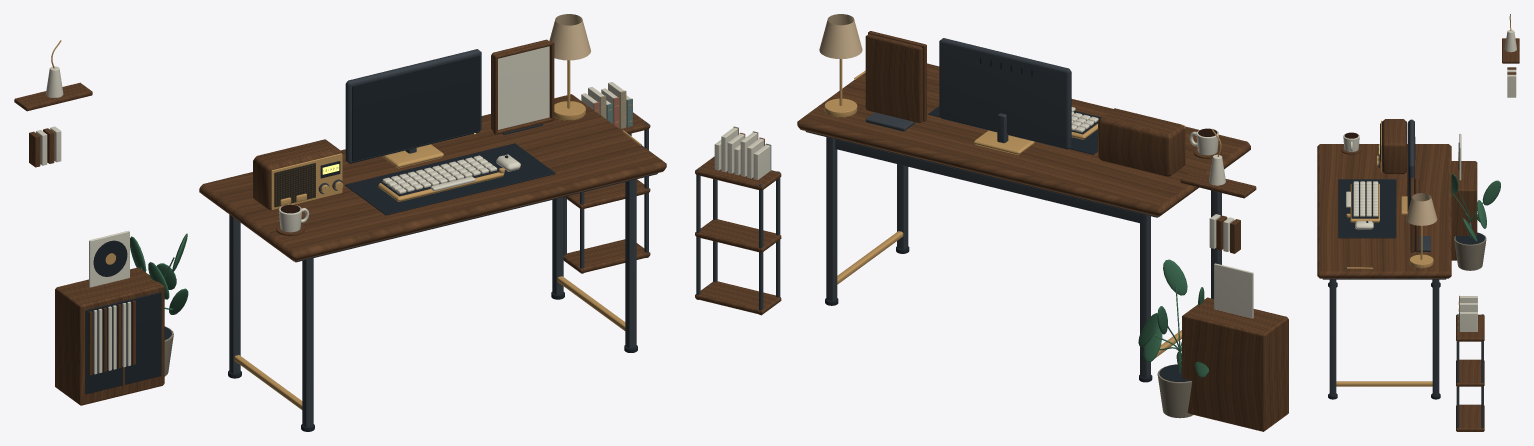
Rendered from desk-studio-mobile.glb.
3 views of the same model, side by side, from view 1: azimuth 30°, elevation 25°; view 2: azimuth 150°, elevation 25°; view 3: azimuth 270°, elevation 25° (orthographic). The views are drawn at different scales.
Visible parts, largest first — view 1: Desk__finish, Scenery__finish, Computer__finish, PhotoDisplay__finish, Radio__finish, KeyboardKey__finish, Lamp__finish, Accessories__finish; view 2: Scenery__finish, Desk__finish, Computer__finish, PhotoDisplay__finish, Radio__finish, Lamp__finish, Accessories__finish, KeyboardKey__finish; view 3: Desk__finish, Scenery__finish, Radio__finish, KeyboardKey__finish, Lamp__finish, Computer__finish, PhotoDisplay__finish, Accessories__finish.
Part boxes in pixels (x1=…): Desk__finish: x1=199, y1=94, x2=666, y2=431; Scenery__finish: x1=14, y1=40, x2=650, y2=405; Computer__finish: x1=345, y1=49, x2=481, y2=168; PhotoDisplay__finish: x1=491, y1=39, x2=554, y2=134; Radio__finish: x1=253, y1=139, x2=343, y2=210; KeyboardKey__finish: x1=378, y1=154, x2=520, y2=201; Lamp__finish: x1=549, y1=14, x2=590, y2=120; Accessories__finish: x1=276, y1=130, x2=643, y2=235; Scenery__finish: x1=695, y1=126, x2=1288, y2=431; Desk__finish: x1=797, y1=63, x2=1250, y2=382; Computer__finish: x1=939, y1=38, x2=1071, y2=155; PhotoDisplay__finish: x1=865, y1=31, x2=926, y2=131; Radio__finish: x1=1098, y1=108, x2=1185, y2=177; Lamp__finish: x1=819, y1=14, x2=862, y2=117; Accessories__finish: x1=854, y1=70, x2=1221, y2=158; KeyboardKey__finish: x1=1071, y1=107, x2=1098, y2=139; Desk__finish: x1=1317, y1=144, x2=1451, y2=399; Scenery__finish: x1=1451, y1=14, x2=1519, y2=431; Radio__finish: x1=1376, y1=119, x2=1406, y2=174; KeyboardKey__finish: x1=1346, y1=181, x2=1379, y2=229; Lamp__finish: x1=1406, y1=193, x2=1437, y2=268; Computer__finish: x1=1401, y1=119, x2=1415, y2=214; PhotoDisplay__finish: x1=1410, y1=177, x2=1430, y2=252; Accessories__finish: x1=1341, y1=132, x2=1372, y2=269.
Bounding box in the file's own units: 16.85 × 8.89 × 7.08.
18 materials, 2 textured.
